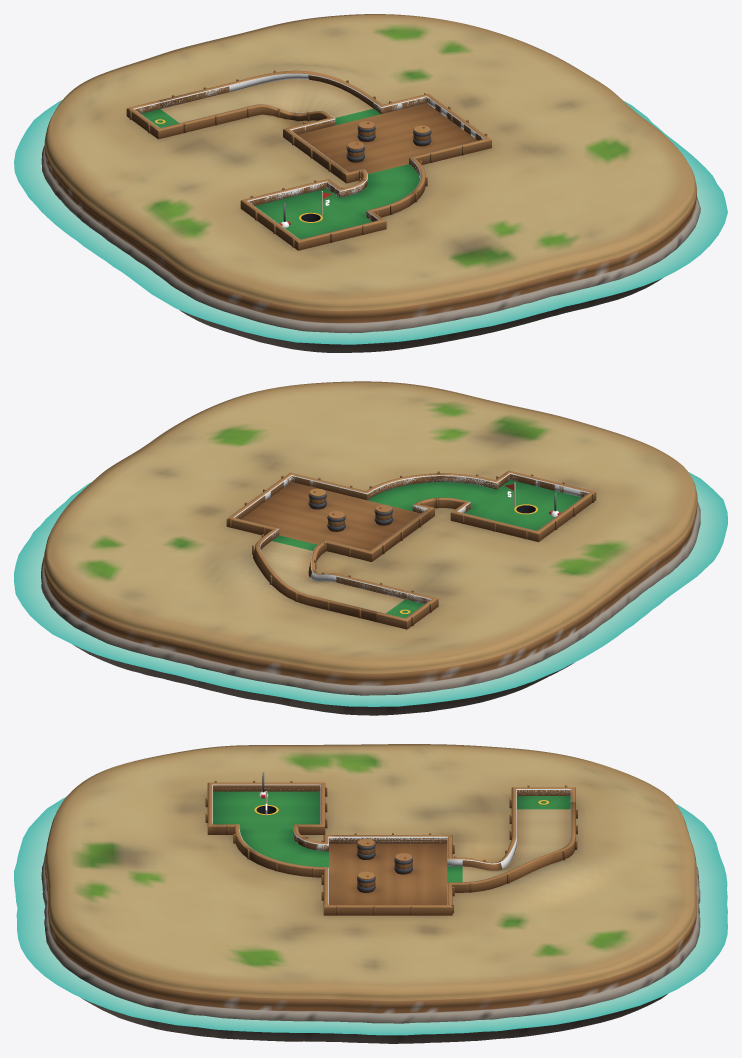
The model's file is course-02.glb.
3 views of the same model, one above another, from view 1: azimuth 30°, elevation 25°; view 2: azimuth 150°, elevation 25°; view 3: azimuth 270°, elevation 25° (orthographic). The views are drawn at different scales.
Visible parts, largest first — view 1: scenery-matte, water-shore, rail-trim, floor-deck, floor-felt, floor-sand, rail-wood; view 2: scenery-matte, water-shore, rail-trim, floor-deck, floor-felt, floor-sand, rail-wood; view 3: scenery-matte, water-shore, rail-trim, floor-felt, floor-deck, floor-sand, rail-wood.
Part boxes in pixels (x1=…): scenery-matte: x1=41, y1=14, x2=700, y2=352; water-shore: x1=14, y1=100, x2=727, y2=344; rail-trim: x1=126, y1=70, x2=491, y2=250; floor-deck: x1=297, y1=103, x2=477, y2=173; floor-felt: x1=141, y1=108, x2=419, y2=239; floor-sand: x1=161, y1=79, x2=372, y2=123; rail-wood: x1=133, y1=73, x2=484, y2=239; scenery-matte: x1=41, y1=381, x2=700, y2=715; water-shore: x1=14, y1=472, x2=727, y2=706; rail-trim: x1=226, y1=470, x2=596, y2=629; floor-deck: x1=241, y1=482, x2=420, y2=550; floor-felt: x1=272, y1=480, x2=581, y2=618; floor-sand: x1=261, y1=541, x2=404, y2=613; rail-wood: x1=233, y1=473, x2=589, y2=618; scenery-matte: x1=41, y1=744, x2=700, y2=1043; water-shore: x1=14, y1=796, x2=727, y2=1035; rail-trim: x1=205, y1=780, x2=577, y2=915; floor-felt: x1=213, y1=791, x2=570, y2=882; floor-deck: x1=329, y1=843, x2=447, y2=904; floor-sand: x1=462, y1=809, x2=570, y2=882; rail-wood: x1=212, y1=784, x2=571, y2=904.
Bounding box in the file's own units: 21 × 3.26 × 22.92.
